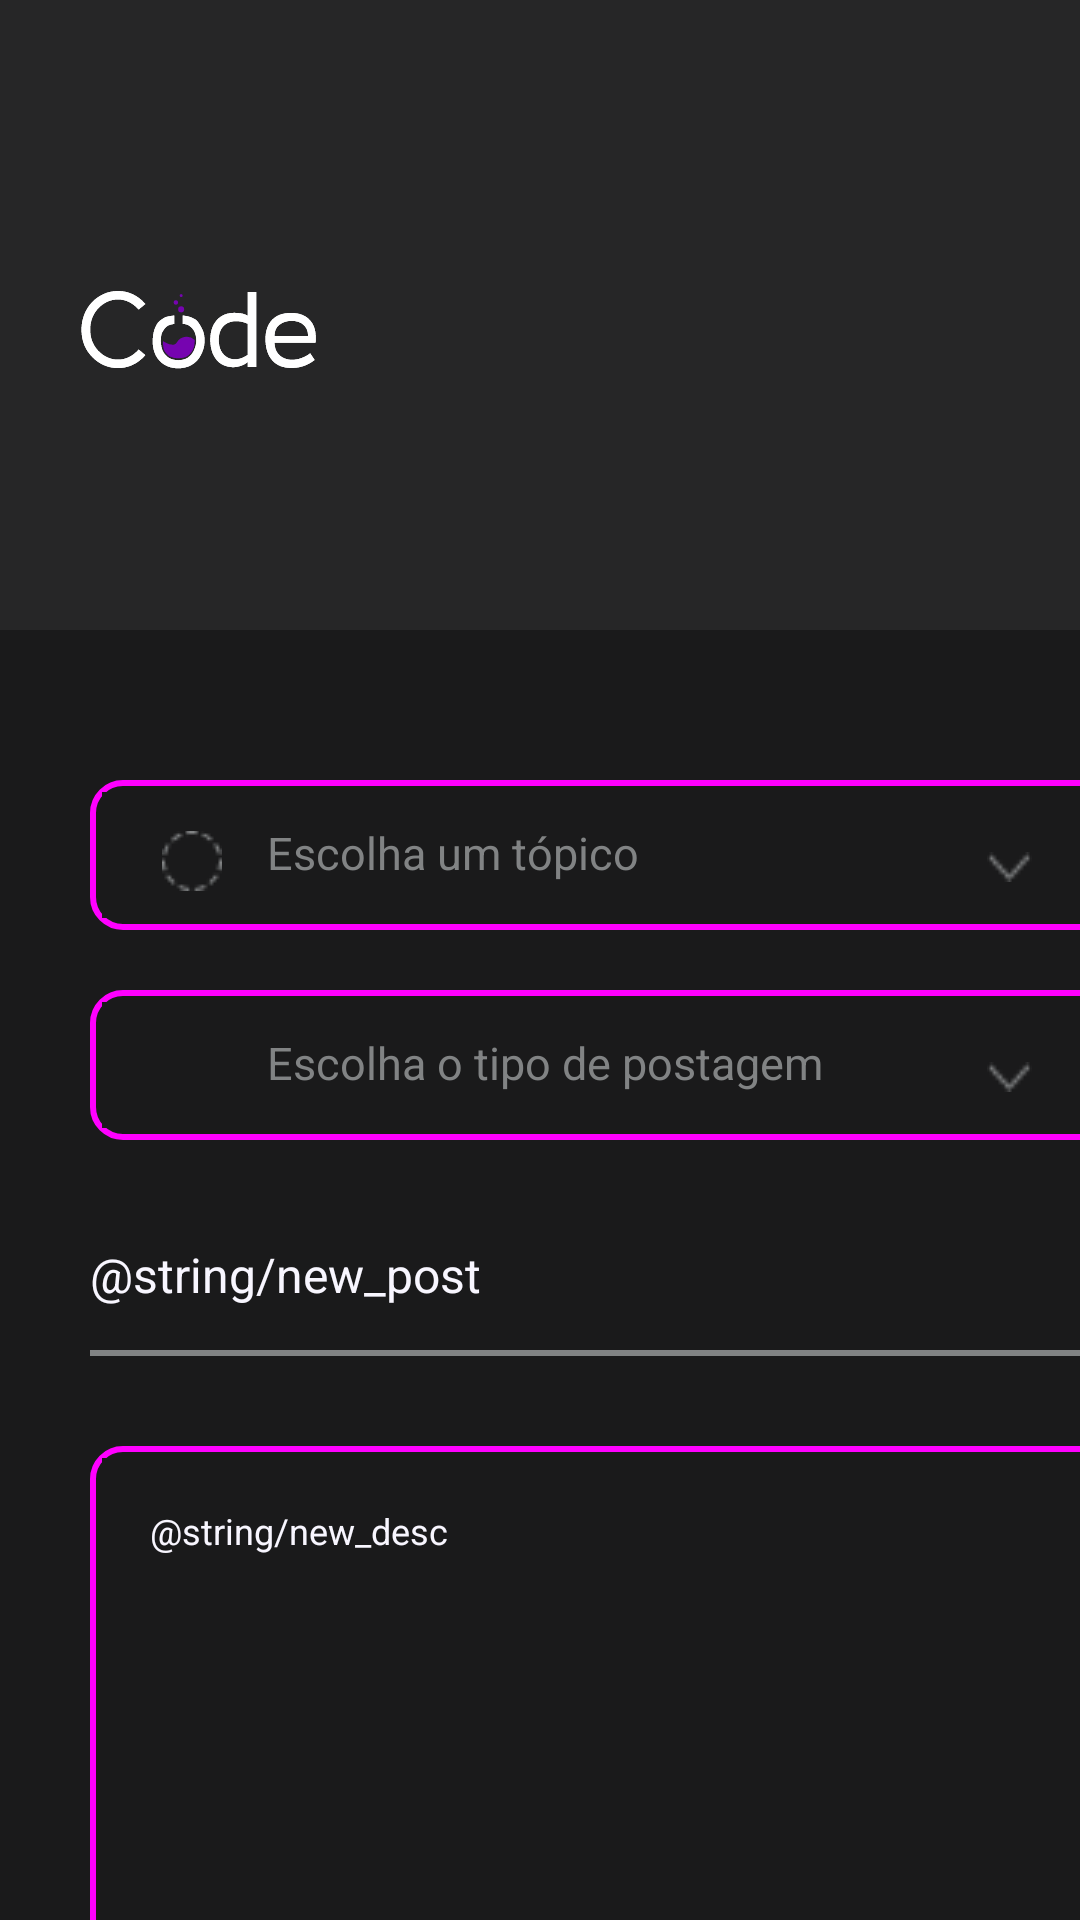

Where to tap for icons on this 1080×1920 app screen, as (x=x, y=y):
circulo: (x=192, y=861)
